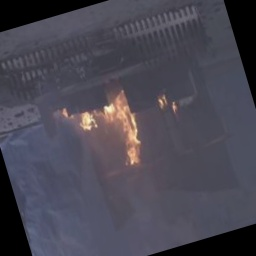fire: (69, 89, 155, 183)
